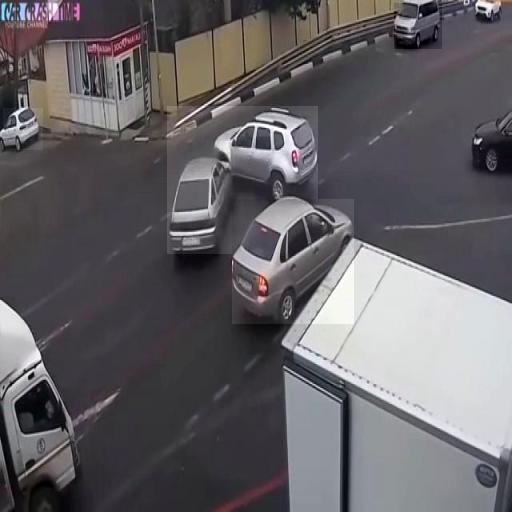小汽车: (232, 199, 354, 324), (394, 3, 442, 49), (3, 108, 43, 150)
小汽车撞小汽车: (167, 106, 318, 254)
